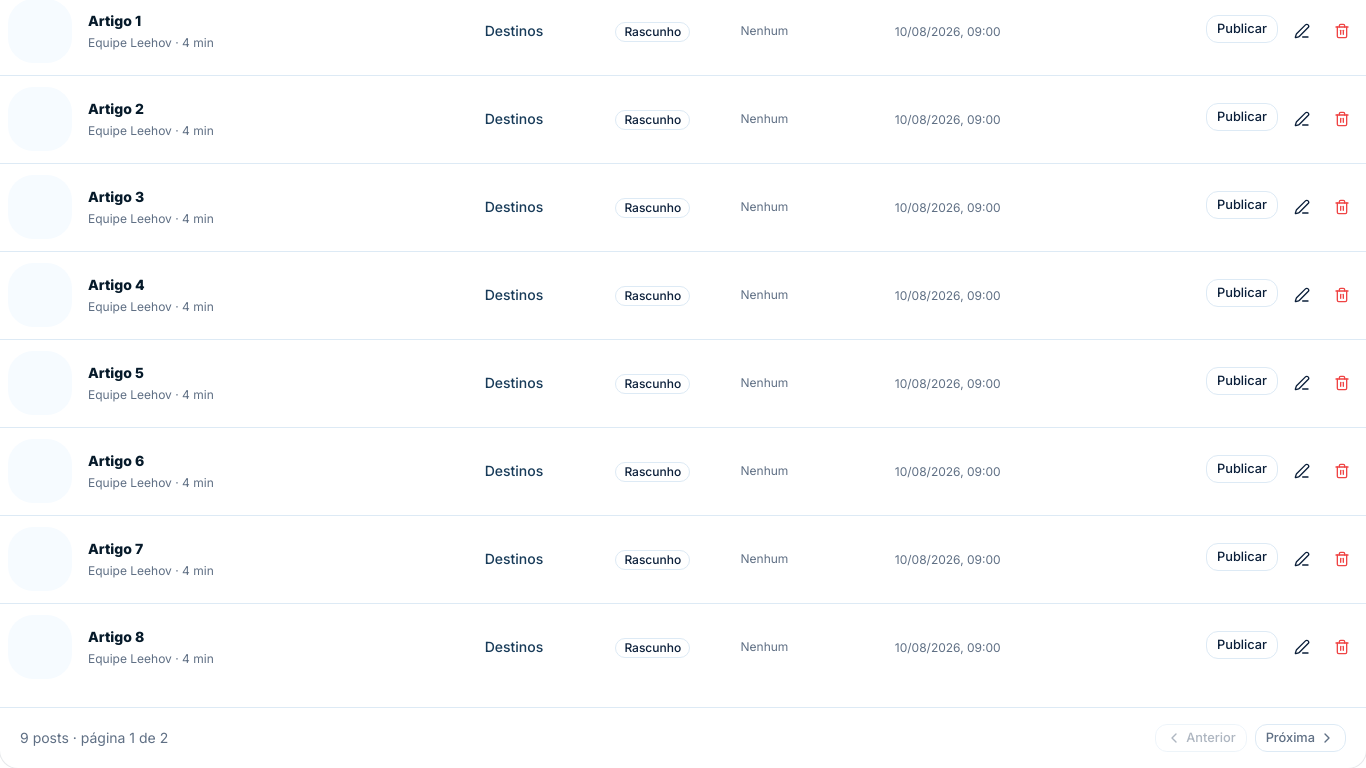
Test: AdminBlogTable › troca de página sem deixar o carregamento preso
(page scrolled)
Step 1. Click the button "Próxima" → (1300, 738), box [1255, 724, 1346, 752]
(page scrolled)
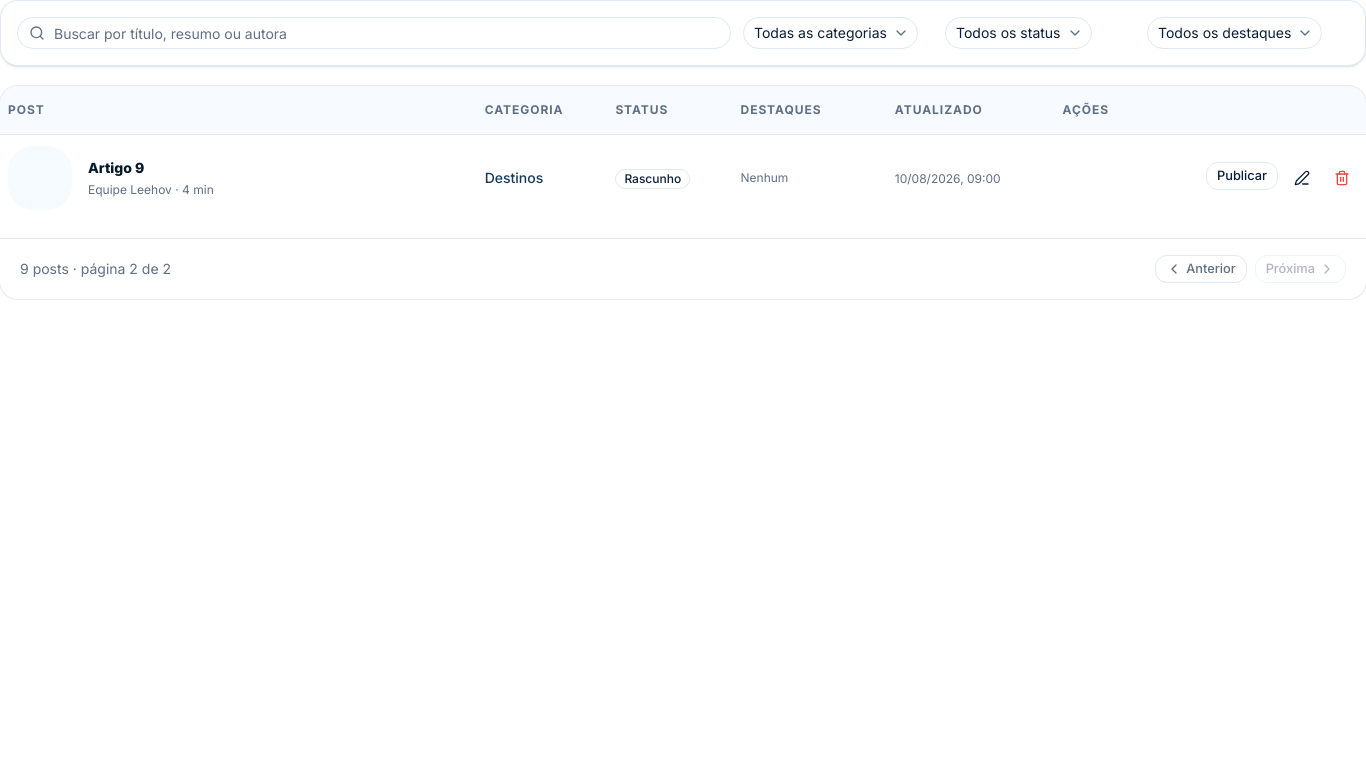
Expected: the text "9 posts · página 2 de 2" is shown, [20, 259, 171, 279]
Expected: the text "Artigo 9" is shown, [88, 159, 144, 176]
Expected: the text "Artigo 1" is gone
